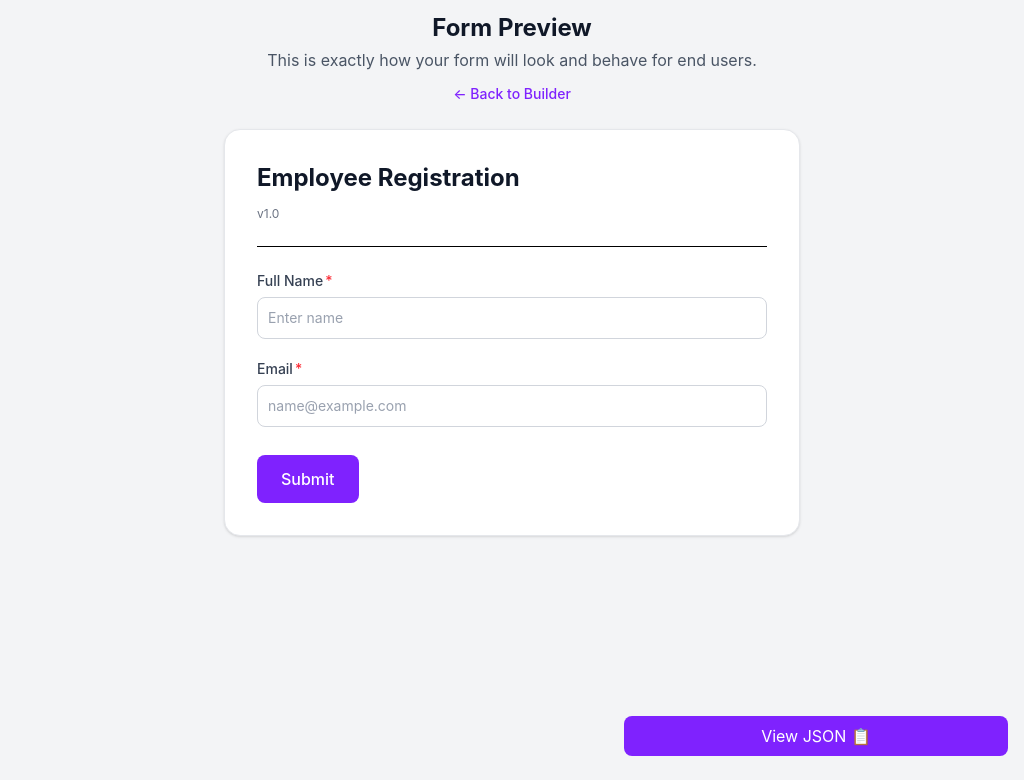
Test: Preview page › validates, submits, records the submission, and shows a Thank You screen
Click the button "Submit".
click(308, 479)  # box [257,455,358,503]
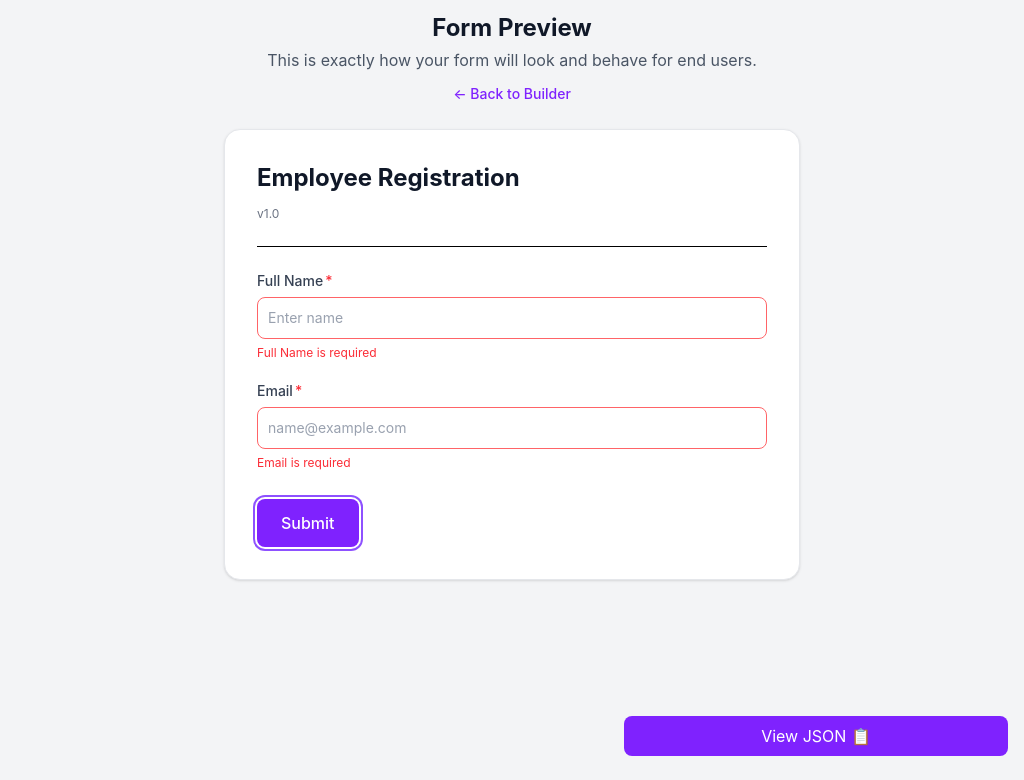
Expected: the text "Full Name is required" is shown, [257,345,377,360]
Type "Jane Doe" into the field with placeholder "Enter name".
click(512, 318); type("Jane Doe")  # box [257,297,767,339]
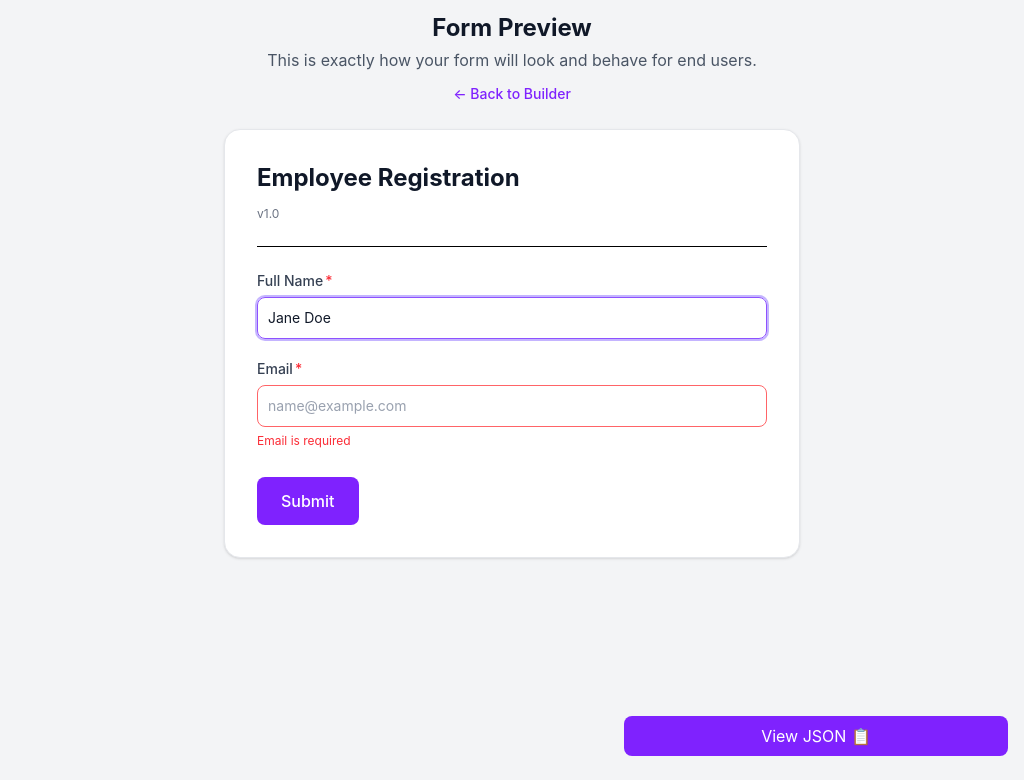
Type "jane@test.com" into the field with placeholder "name@example.com".
click(512, 406); type("jane@test.com")  # box [257,385,767,427]
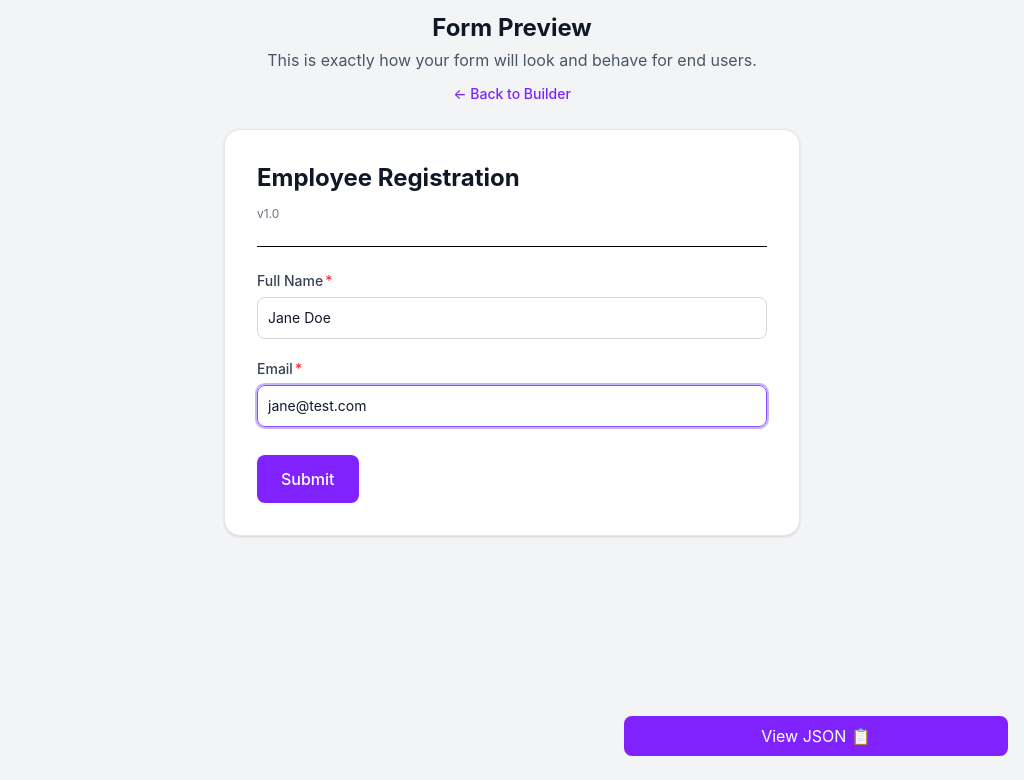
Click the button "Submit".
click(308, 479)  # box [257,455,358,503]
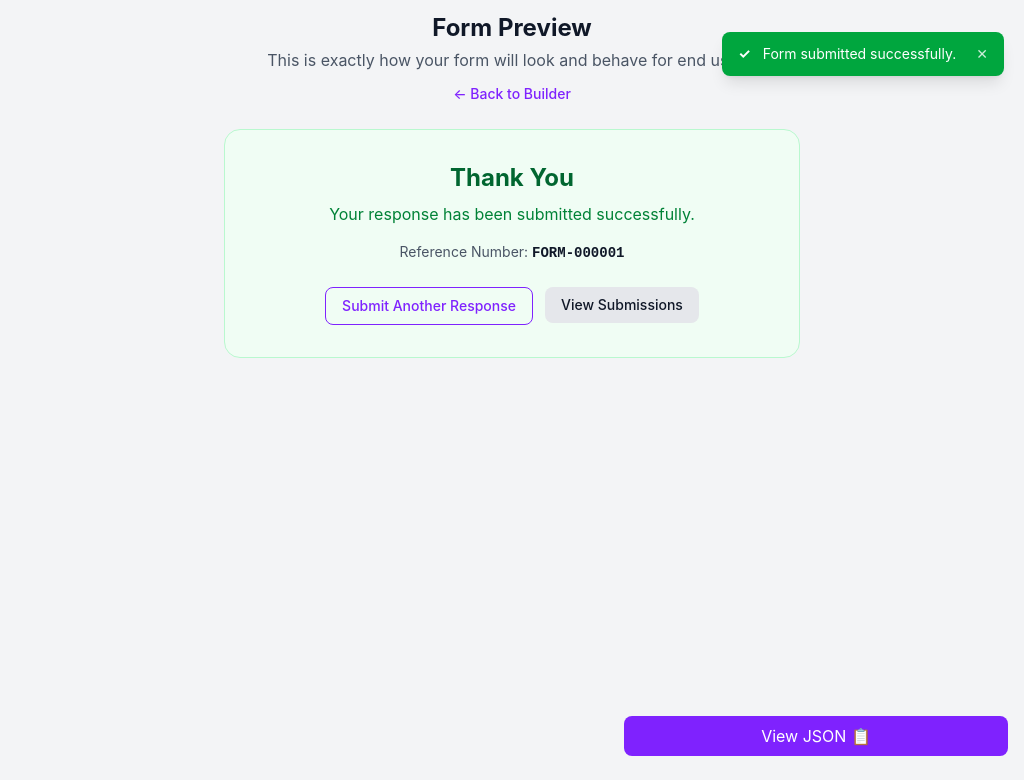
Expected: the text "Thank You" is shown, [450,163,574,192]
Expected: the text "FORM-000001" is shown, [532,245,624,261]
Expected: the text "Form submitted successfully." is shown, [763,44,956,64]
